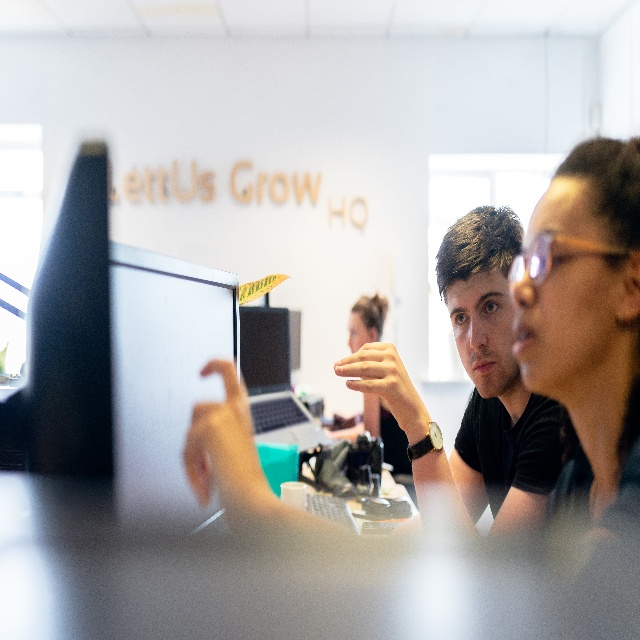Gafas: (508, 229, 636, 288)
Sin_guantes: (183, 358, 271, 529), (332, 341, 423, 433)
